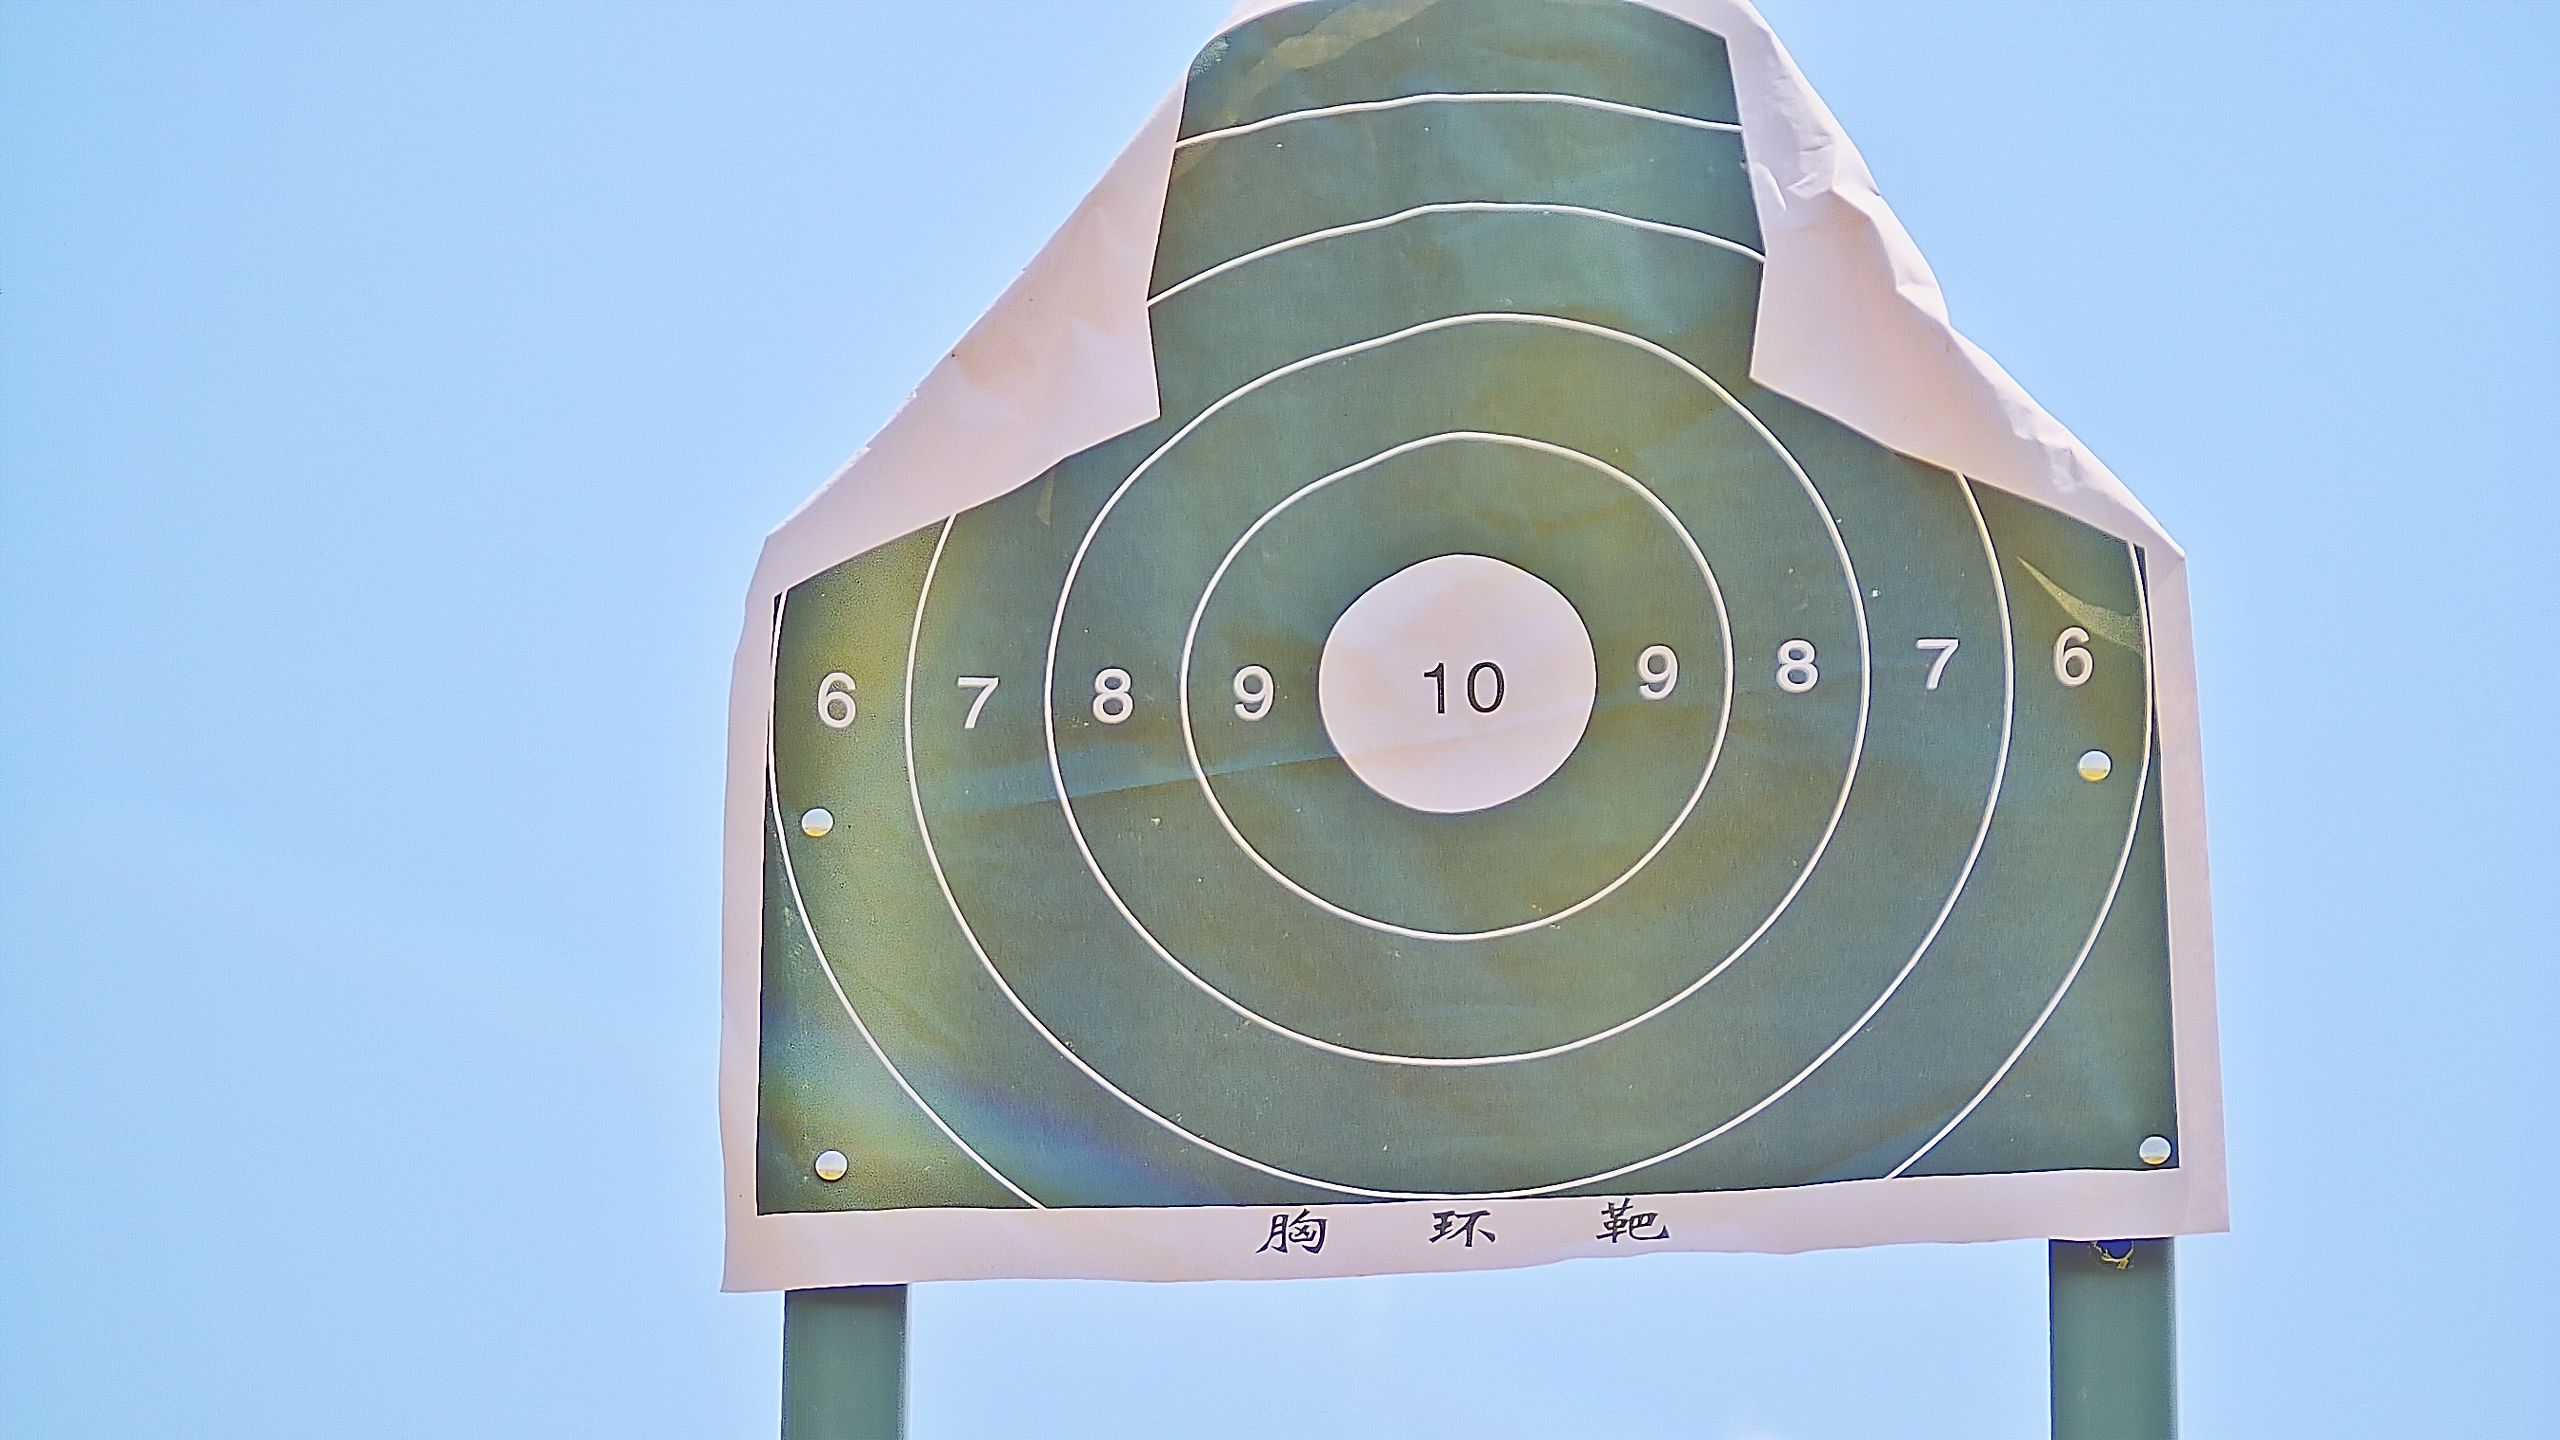target: (765, 2, 2185, 1185), (1456, 686, 1461, 687)
ten: (1317, 547, 1600, 818)
